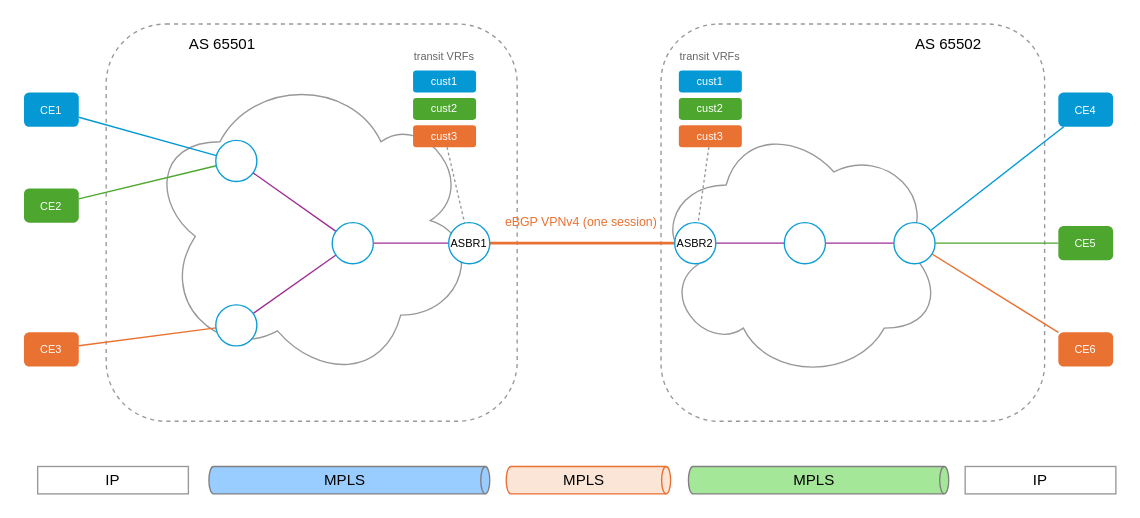
This 1140x518 diagram has some shape labels left out. Here are the shapes that lost their labels. From the top down, the box of each, then its label:
(214, 139, 257, 182): PE1
(331, 221, 373, 264): P1
(783, 221, 825, 264): P2
(893, 221, 935, 264): PE3
(214, 303, 257, 346): PE2
